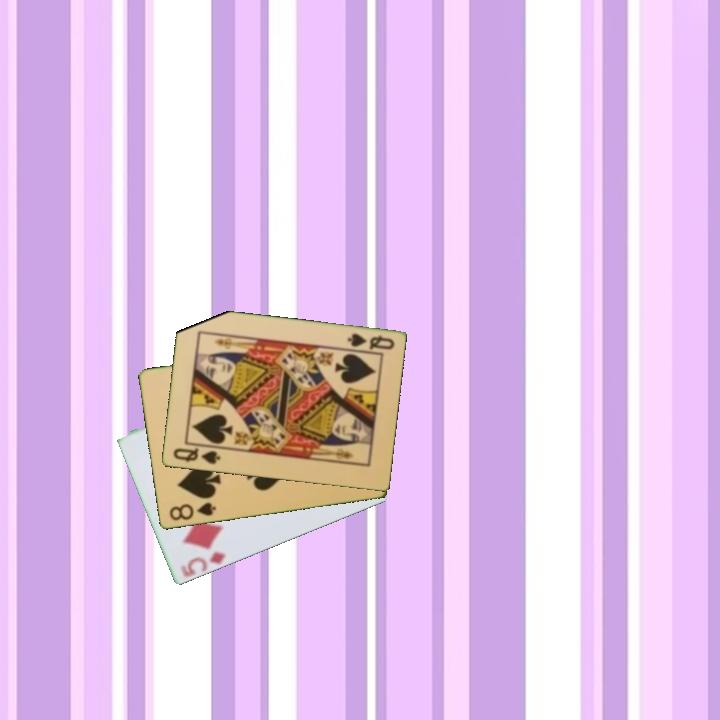5d: (177, 548, 229, 580)
8s: (165, 499, 218, 524)
Qs: (344, 330, 397, 353), (169, 445, 223, 467)
